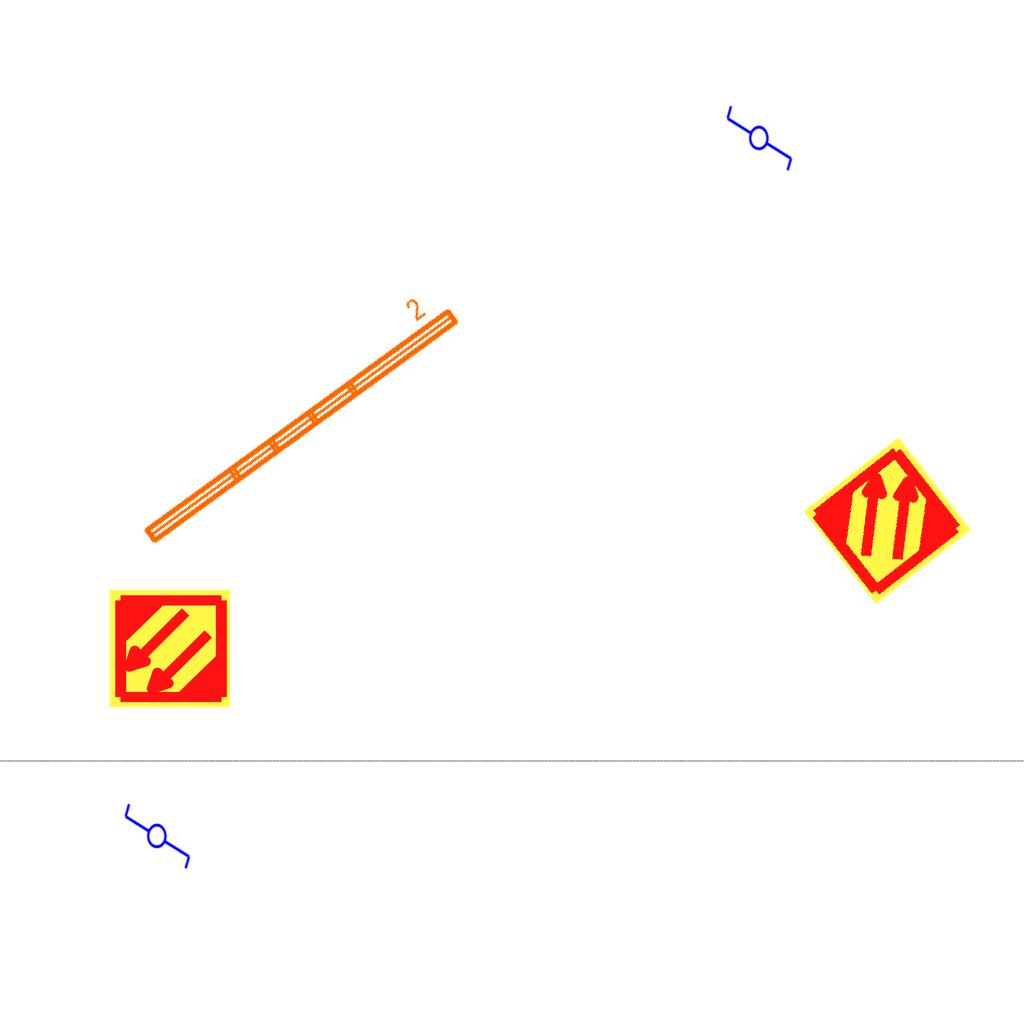ASR_Ansaugrauchmelder: (799, 432, 976, 609), (107, 586, 232, 711)
Ambulanz_Pendelleuchte_LED: (120, 279, 467, 553)
Wechselschalter: (724, 95, 796, 173), (122, 793, 194, 871)
